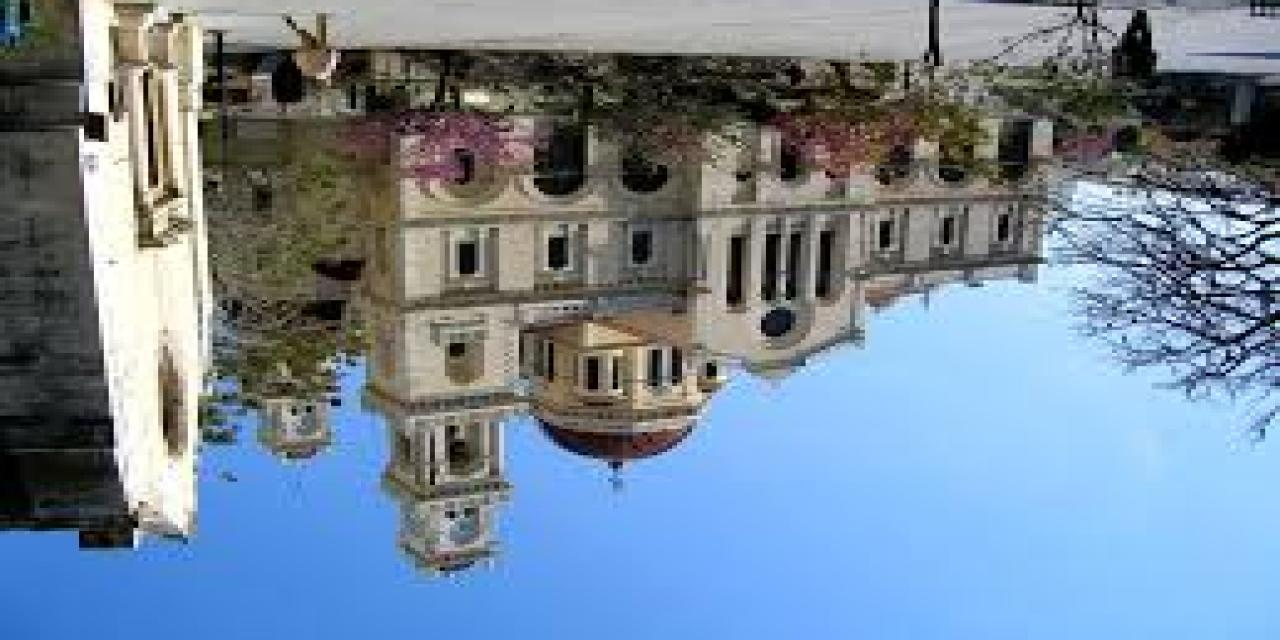Agios Minas: (1, 1, 1063, 577)
